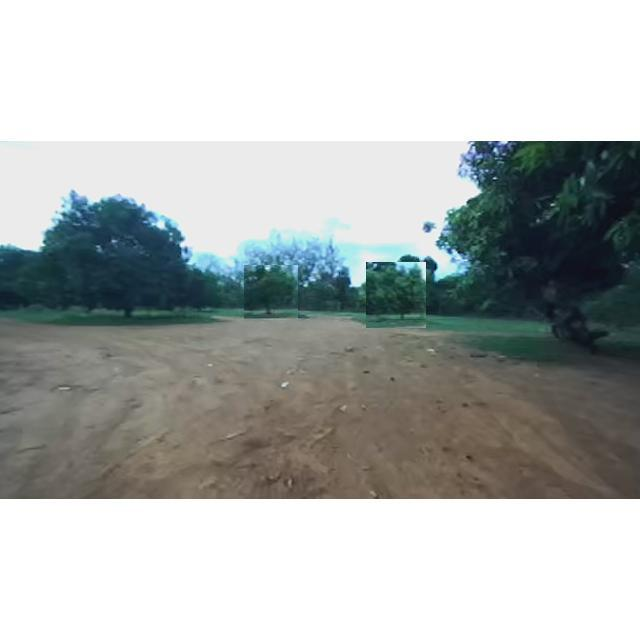direk: (420, 144, 640, 356), (34, 186, 196, 340), (366, 262, 426, 328), (244, 265, 298, 323), (302, 274, 346, 318)
